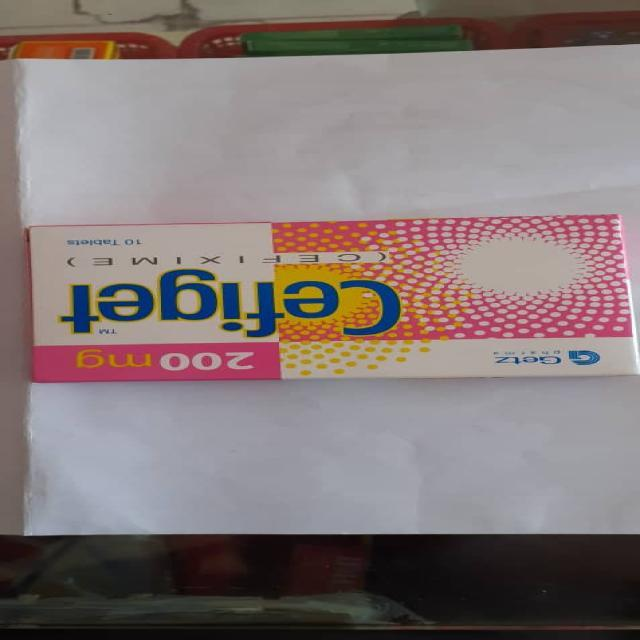drug-name: (54, 268, 402, 338)
